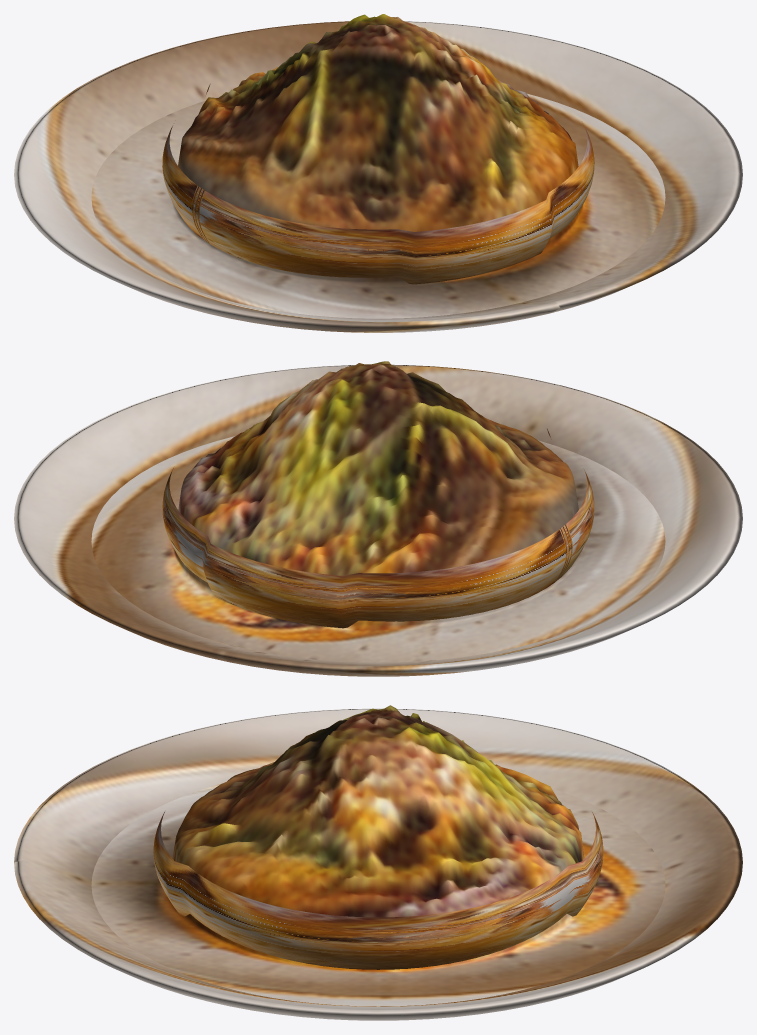
File: cardamom-knot.glb
The picture shows the model from 3 angles, top to bottom: view 1: azimuth 30°, elevation 25°; view 2: azimuth 150°, elevation 25°; view 3: azimuth 270°, elevation 25°; orthographic projection.
Parts seen in each view (by area): view 1: PhotoSculptedCardamomCrown, SpeckledPastryPlate, GoldenBriocheLowerSkirt; view 2: PhotoSculptedCardamomCrown, SpeckledPastryPlate, GoldenBriocheLowerSkirt; view 3: PhotoSculptedCardamomCrown, SpeckledPastryPlate, GoldenBriocheLowerSkirt.
Boxes of the visible parts, x1,y1,x2,y2 form: PhotoSculptedCardamomCrown: (91,14,665,332); SpeckledPastryPlate: (14,21,742,332); GoldenBriocheLowerSkirt: (162,84,594,284); PhotoSculptedCardamomCrown: (91,361,665,676); SpeckledPastryPlate: (14,364,742,676); GoldenBriocheLowerSkirt: (162,428,594,628); PhotoSculptedCardamomCrown: (91,705,665,1020); SpeckledPastryPlate: (14,708,742,1020); GoldenBriocheLowerSkirt: (153,812,603,969).
Size of the model in its own units: 3.36 by 0.9541 by 3.36.
3 materials, 3 textured.
